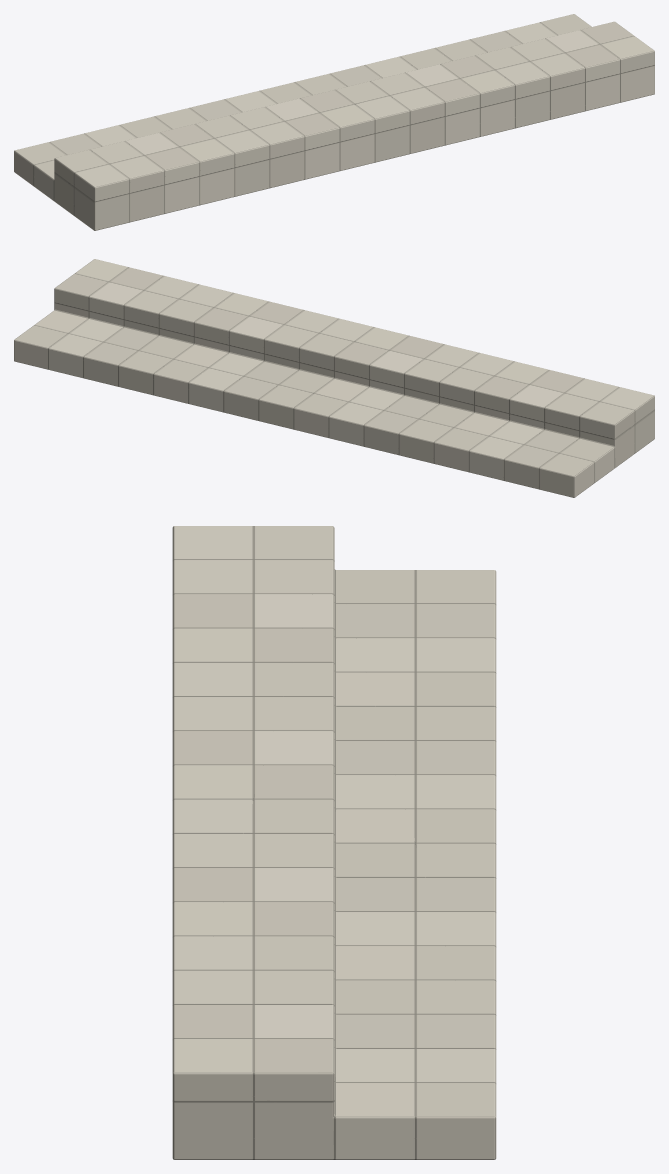
The model's file is MOD_26_PoolEdge_StepDown.glb.
3 renders of one model, top to bottom at view 1: azimuth 30°, elevation 25°; view 2: azimuth 150°, elevation 25°; view 3: azimuth 270°, elevation 25°, orthographic. The views are drawn at different scales.
Parts seen in each view (by area): view 1: MOD_26_PoolEdge_StepDown_Export; view 2: MOD_26_PoolEdge_StepDown_Export; view 3: MOD_26_PoolEdge_StepDown_Export.
Boxes of the visible parts, x1,y1,x2,y2 form: MOD_26_PoolEdge_StepDown_Export: (14,14,654,230); MOD_26_PoolEdge_StepDown_Export: (14,259,654,497); MOD_26_PoolEdge_StepDown_Export: (172,526,496,1159).
Bounding box in the file's own units: 4 × 0.3 × 1.
Materials: 1 (1 with a texture image).
